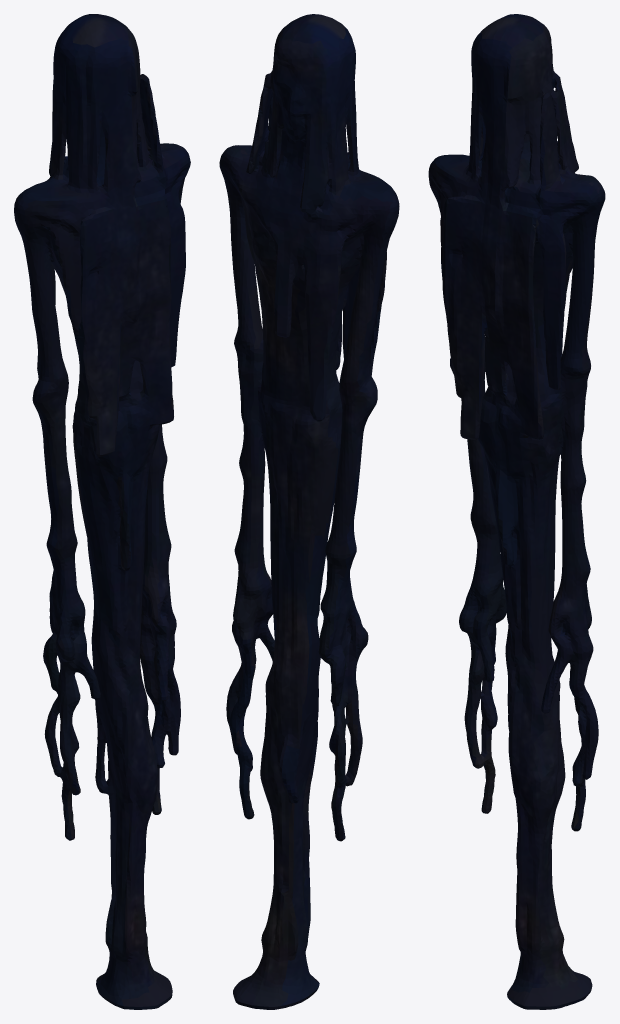
The model's file is garak_horror4.glb.
3 renders of one model, left to right at view 1: azimuth 30°, elevation 25°; view 2: azimuth 150°, elevation 25°; view 3: azimuth 330°, elevation 25°, orthographic.
Parts seen in each view (by area): view 1: horror4.obj; view 2: horror4.obj; view 3: horror4.obj.
Part boxes in pixels (x1,y1,x2,y2): horror4.obj: (14, 14, 190, 1009); horror4.obj: (219, 14, 399, 1009); horror4.obj: (428, 14, 605, 1009).
Bounding box in the file's own units: 0.3624 × 1.97 × 0.2114.
1 material, 1 textured.
